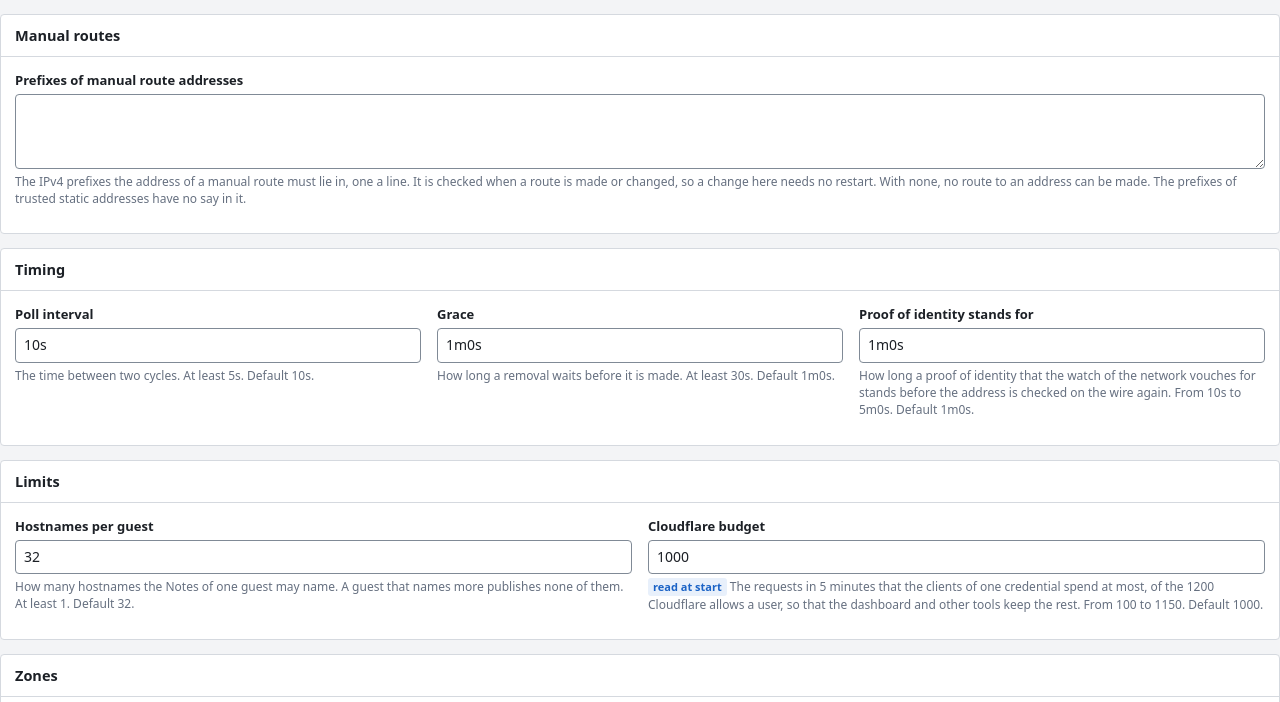
Test: a save › cancelling the diff writes nothing and keeps the edits
The width and height of the screenshot is (1280, 702).
(page scrolled)
Replace the text in the field labelled "Grace" with "2m" at [640, 345], box [437,328,843,363]
(page scrolled)
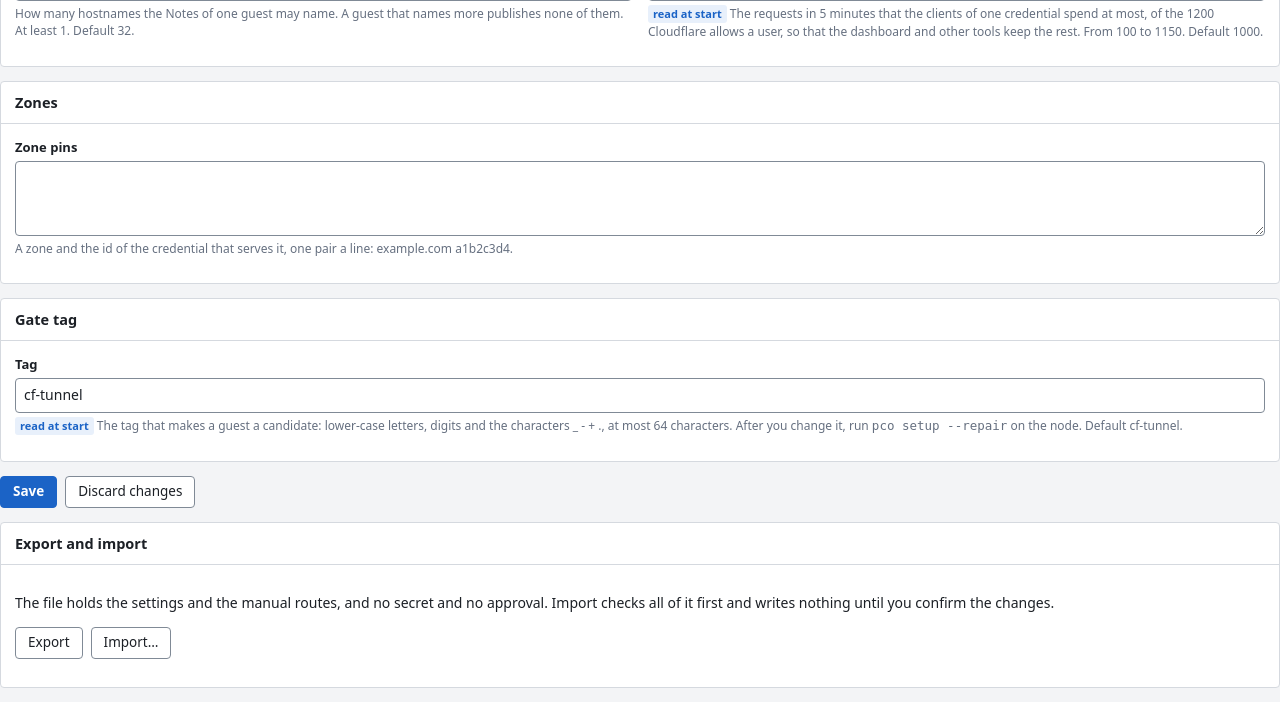
Click the button "Save" at [29, 492], box [0,476,57,508]
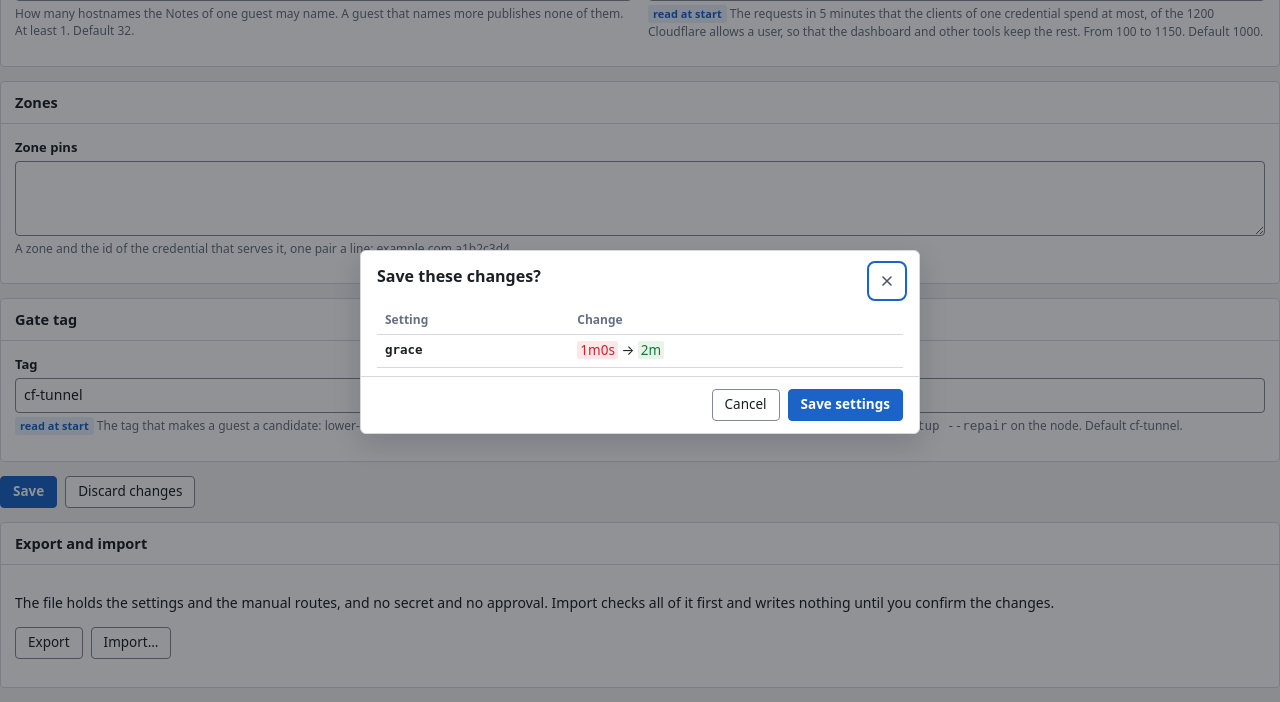
Click the button "Cancel" at [746, 405], box [712,389,780,421]
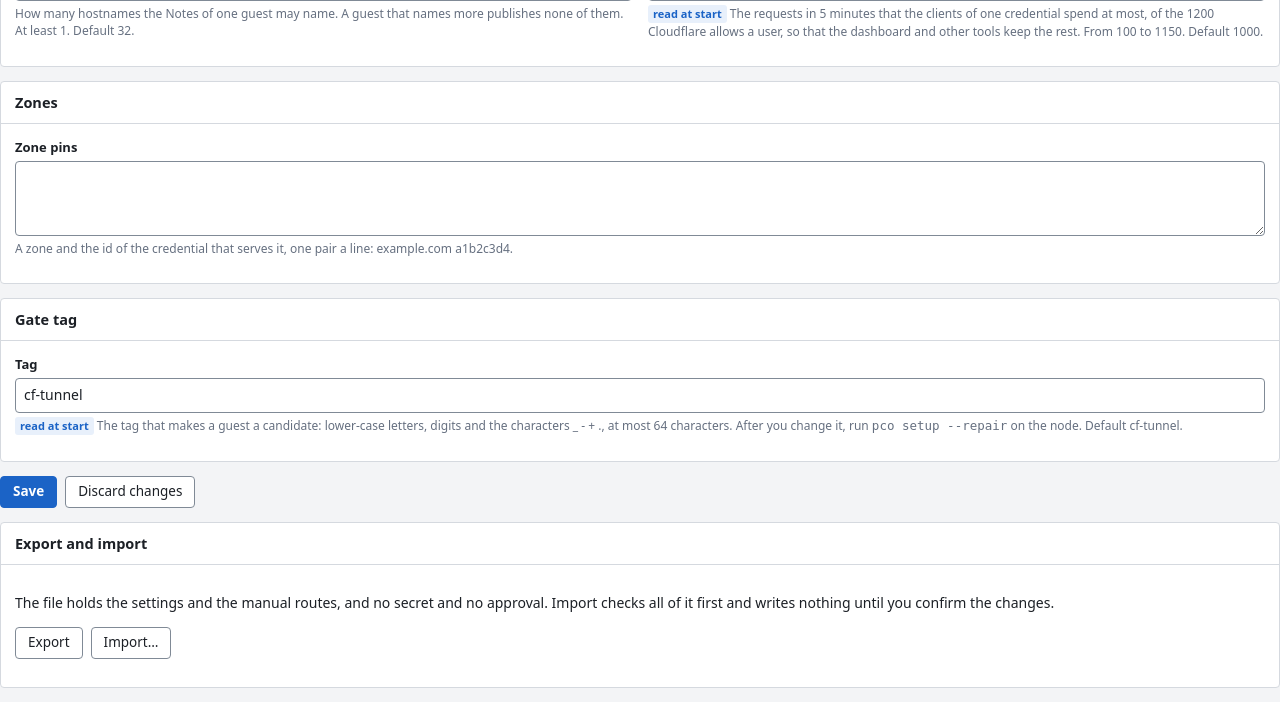
Click the button "Discard changes" at [130, 492], box [65,476,195,508]
(page scrolled)
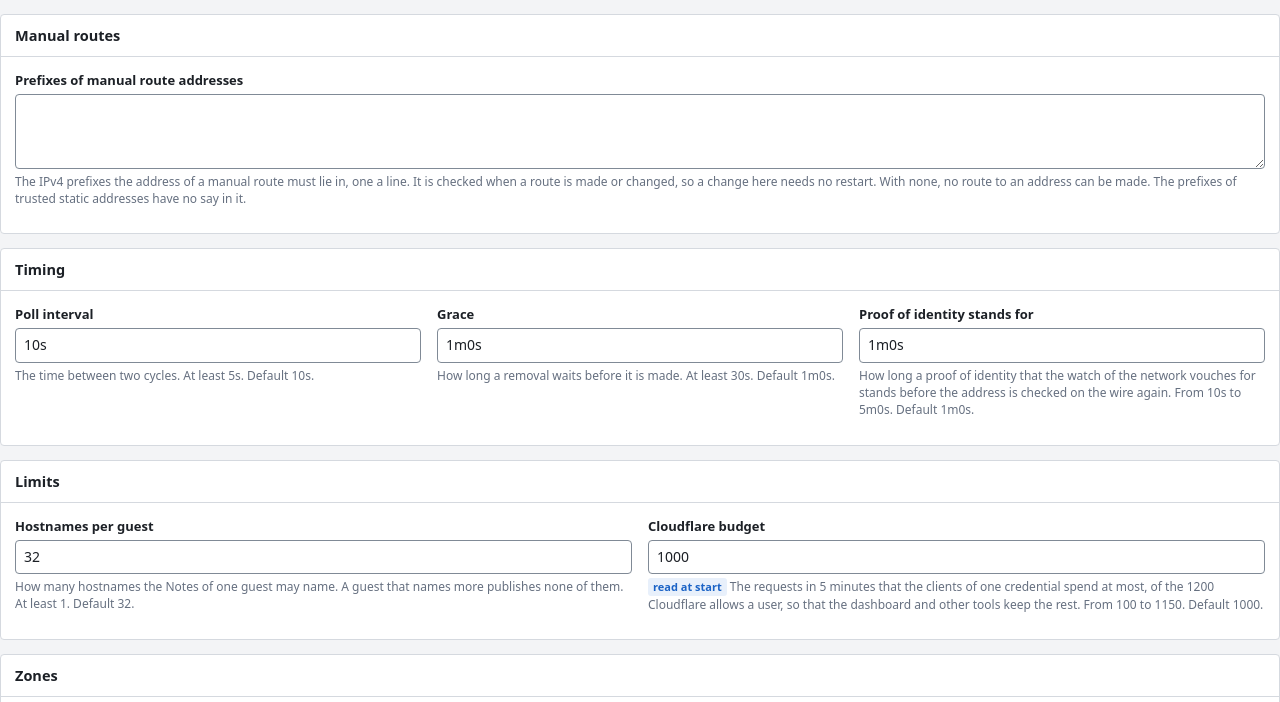
Now the field labelled "Grace" holds "1m0s", box [437,328,843,363]
